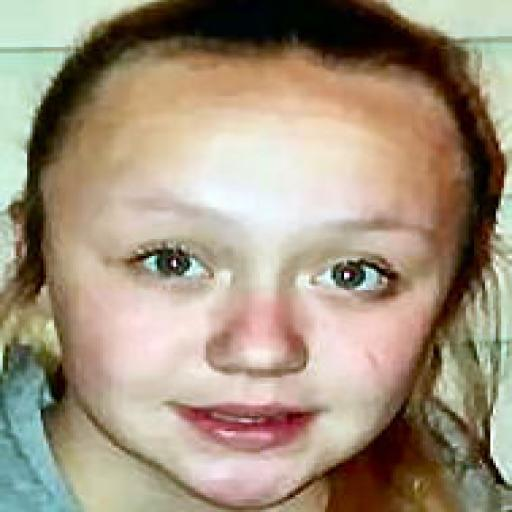Autism: (66, 28, 502, 470)
